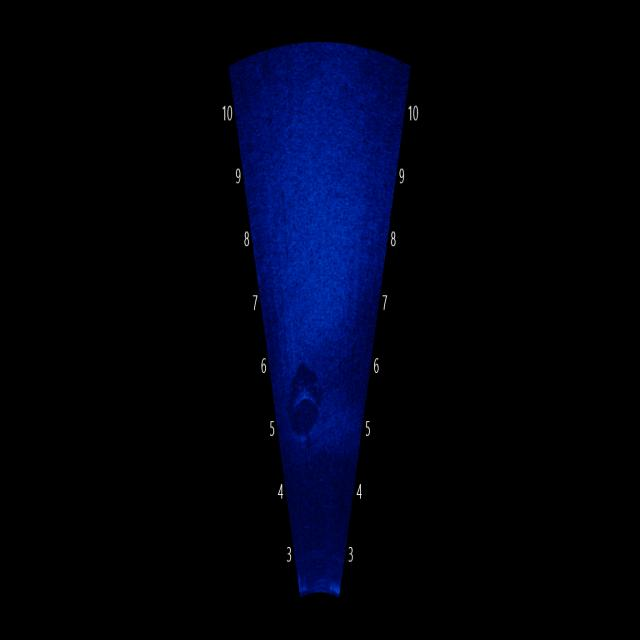circle: (280, 360, 333, 454)
